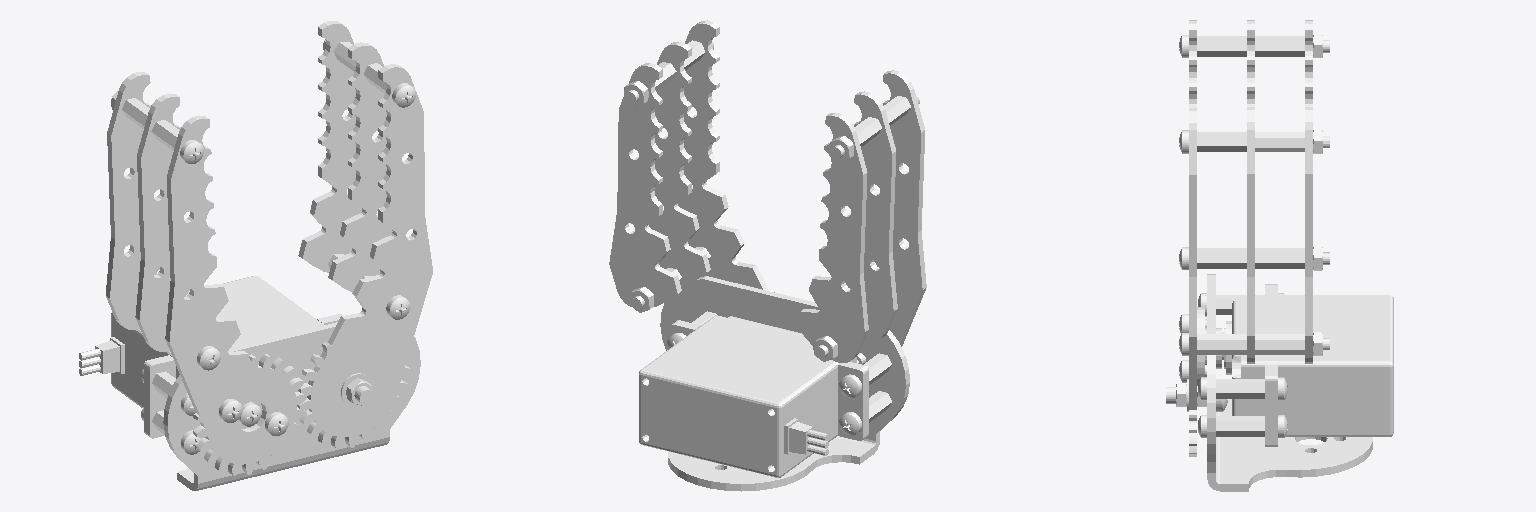
The robot description file, URDF, robot "gripper3":
<?xml version="1.0" encoding="utf-8"?>
<!-- This URDF was automatically created by SolidWorks to URDF Exporter! Originally created by [author] ([email redacted]) 
     Commit Version: 1.6.0-4-g7f85cfe  Build Version: 1.6.7995.38578
     For more information, please see http://wiki.ros.org/sw_urdf_exporter -->
<robot
  name="gripper3">
  <link
    name="base_link">
    <inertial>
      <origin
        xyz="0.022563 0.018368 -0.0176"
        rpy="0 0 0" />
      <mass
        value="0.047774" />
      <inertia
        ixx="6.7162E-06"
        ixy="-1.004E-07"
        ixz="-7.4045E-08"
        iyy="1.0991E-05"
        iyz="-4.0881E-07"
        izz="7.9121E-06" />
    </inertial>
    <visual>
      <origin
        xyz="0 0 0"
        rpy="0 0 0" />
      <geometry>
        <mesh
          filename="package://gripper3/meshes/base_link.STL" />
      </geometry>
      <material
        name="">
        <color
          rgba="1 1 1 1" />
      </material>
    </visual>
    <collision>
      <origin
        xyz="0 0 0"
        rpy="0 0 0" />
      <geometry>
        <mesh
          filename="package://gripper3/meshes/base_link.STL" />
      </geometry>
    </collision>
  </link>
  <link
    name="Empty_Link1">
    <inertial>
      <origin
        xyz="-0.021122 0.028354 -0.0055832"
        rpy="0 0 0" />
      <mass
        value="0.015801" />
      <inertia
        ixx="1.6647E-06"
        ixy="1.223E-06"
        ixz="-1.3248E-16"
        iyy="1.5435E-06"
        iyz="-2.1754E-17"
        izz="2.8346E-06" />
    </inertial>
    <visual>
      <origin
        xyz="0 0 0"
        rpy="0 0 0" />
      <geometry>
        <mesh
          filename="package://gripper3/meshes/Empty_Link1.STL" />
      </geometry>
      <material
        name="">
        <color
          rgba="1 1 1 1" />
      </material>
    </visual>
    <collision>
      <origin
        xyz="0 0 0"
        rpy="0 0 0" />
      <geometry>
        <mesh
          filename="package://gripper3/meshes/Empty_Link1.STL" />
      </geometry>
    </collision>
  </link>
  <joint
    name="joint1"
    type="continuous">
    <origin
      xyz="0.04 0 0.02"
      rpy="1.5708 0.90665 0" />
    <parent
      link="base_link" />
    <child
      link="Empty_Link1" />
    <axis
      xyz="0 0 1" />
  </joint>
  <link
    name="Empty_Link2">
    <inertial>
      <origin
        xyz="-0.019265 -0.025888 -0.004777"
        rpy="0 0 0" />
      <mass
        value="0.017262" />
      <inertia
        ixx="1.6519E-06"
        ixy="-1.216E-06"
        ixz="-7.2546E-17"
        iyy="1.5595E-06"
        iyz="-3.2073E-16"
        izz="2.886E-06" />
    </inertial>
    <visual>
      <origin
        xyz="0 0 0"
        rpy="0 0 0" />
      <geometry>
        <mesh
          filename="package://gripper3/meshes/Empty_Link2.STL" />
      </geometry>
      <material
        name="">
        <color
          rgba="1 1 1 1" />
      </material>
    </visual>
    <collision>
      <origin
        xyz="0 0 0"
        rpy="0 0 0" />
      <geometry>
        <mesh
          filename="package://gripper3/meshes/Empty_Link2.STL" />
      </geometry>
    </collision>
  </link>
  <joint
    name="joint2"
    type="continuous">
    <origin
      xyz="0.012 0 0.0195"
      rpy="-1.5708 0.96069 -3.1416" />
    <parent
      link="base_link" />
    <child
      link="Empty_Link2" />
    <axis
      xyz="0 0 -1" />
  </joint>
</robot>

--- What the picture shows (computed from the rendered views, not written in the file) ---
The picture shows the robot from 3 angles, left to right: view 1: azimuth 30°, elevation 25°; view 2: azimuth 150°, elevation 25°; view 3: azimuth 270°, elevation 25°; orthographic projection.
Model gripper3 with 3 links and 2 joints (2 continuous), rooted at base_link, posed every joint at zero.
Visible links, largest first — view 1: Empty_Link1, Empty_Link2, base_link; view 2: base_link, Empty_Link1, Empty_Link2; view 3: base_link, Empty_Link1, Empty_Link2.
Boxes of the visible links, x1,y1,x2,y2 form: Empty_Link1: [297, 21, 432, 447]; Empty_Link2: [106, 72, 306, 475]; base_link: [79, 276, 420, 490]; base_link: [639, 276, 909, 491]; Empty_Link1: [609, 20, 774, 312]; Empty_Link2: [796, 70, 926, 391]; base_link: [1198, 274, 1393, 491]; Empty_Link1: [1166, 107, 1329, 456]; Empty_Link2: [1179, 20, 1329, 383].
Size in the robot's own frame: 0.0715 by 0.055 by 0.1009 metres.
3 mesh visuals loaded from 3 distinct referenced files (3 binary STL).